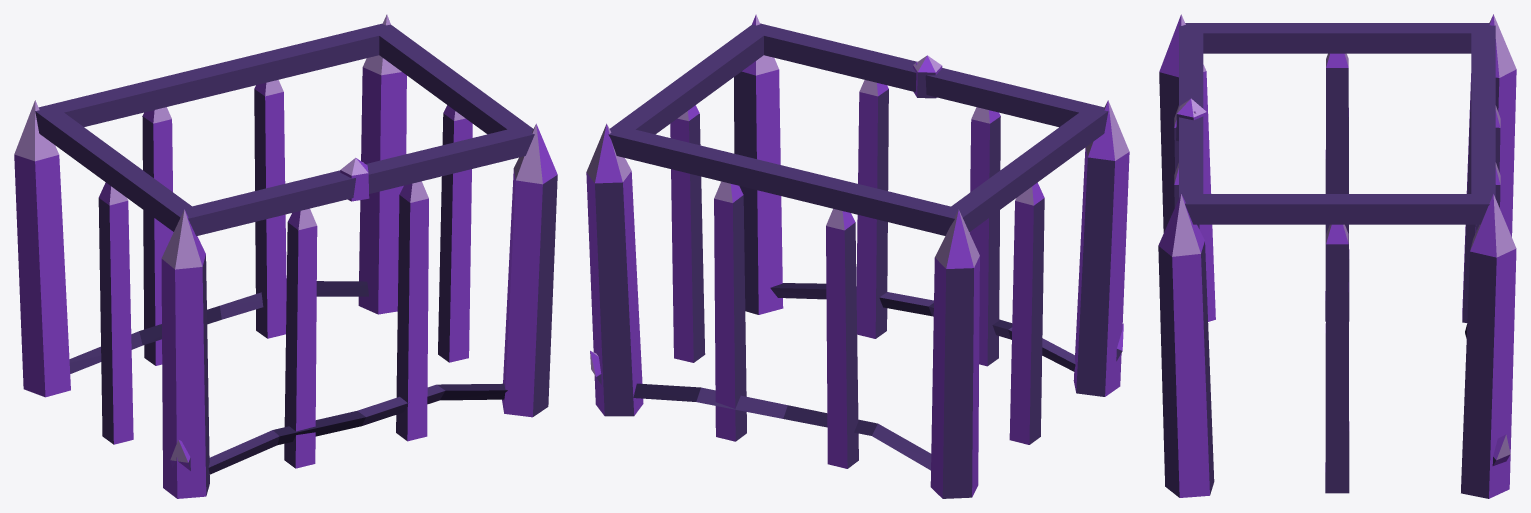
The model's file is gloom_seal.glb.
3 views of the same model, side by side, from view 1: azimuth 30°, elevation 25°; view 2: azimuth 150°, elevation 25°; view 3: azimuth 270°, elevation 25° (orthographic). The views are drawn at different scales.
Visible parts, largest first — view 1: gloom_seal; view 2: gloom_seal; view 3: gloom_seal.
Boxes of the visible parts, <box> form: gloom_seal: <box>14,14,557,498</box>; gloom_seal: <box>586,14,1129,498</box>; gloom_seal: <box>1158,14,1516,498</box>.
Size of the model in its own units: 1.25 by 0.895 by 0.9556.
